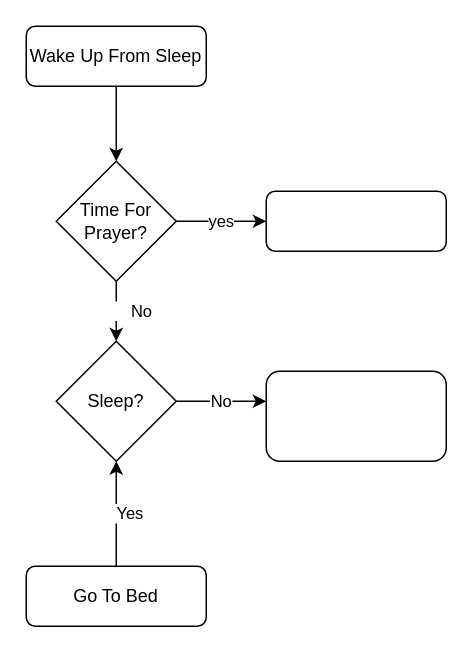
Image size: 473x653. Some labels were removed from this diagram. Each missing label, with the box of its shape:
Do Wudu: (265, 190, 446, 251)
Go Read Books: (265, 370, 446, 461)
